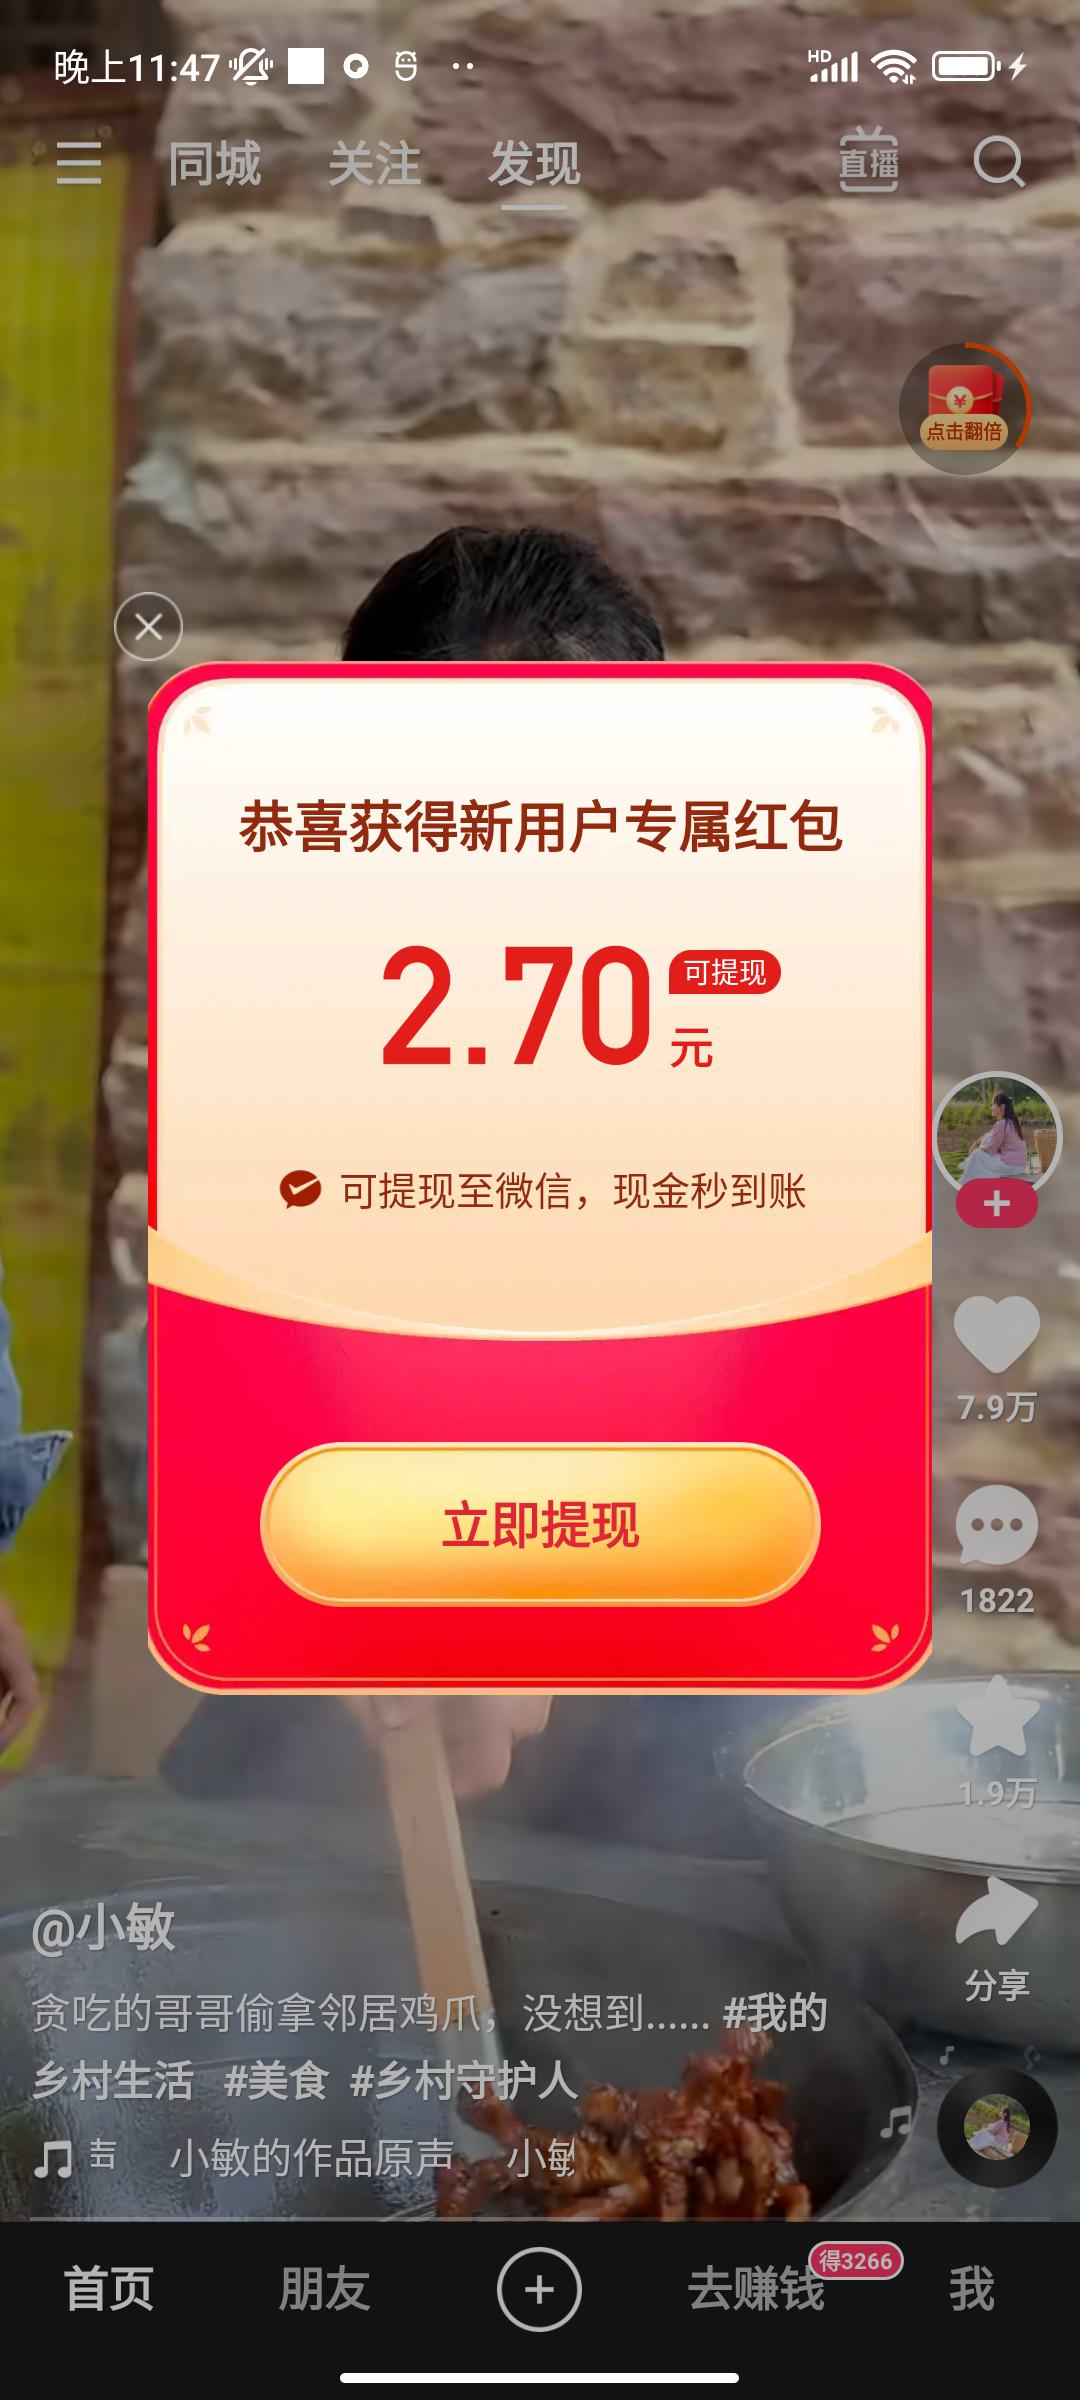ui_group: (145, 647, 950, 1697)
